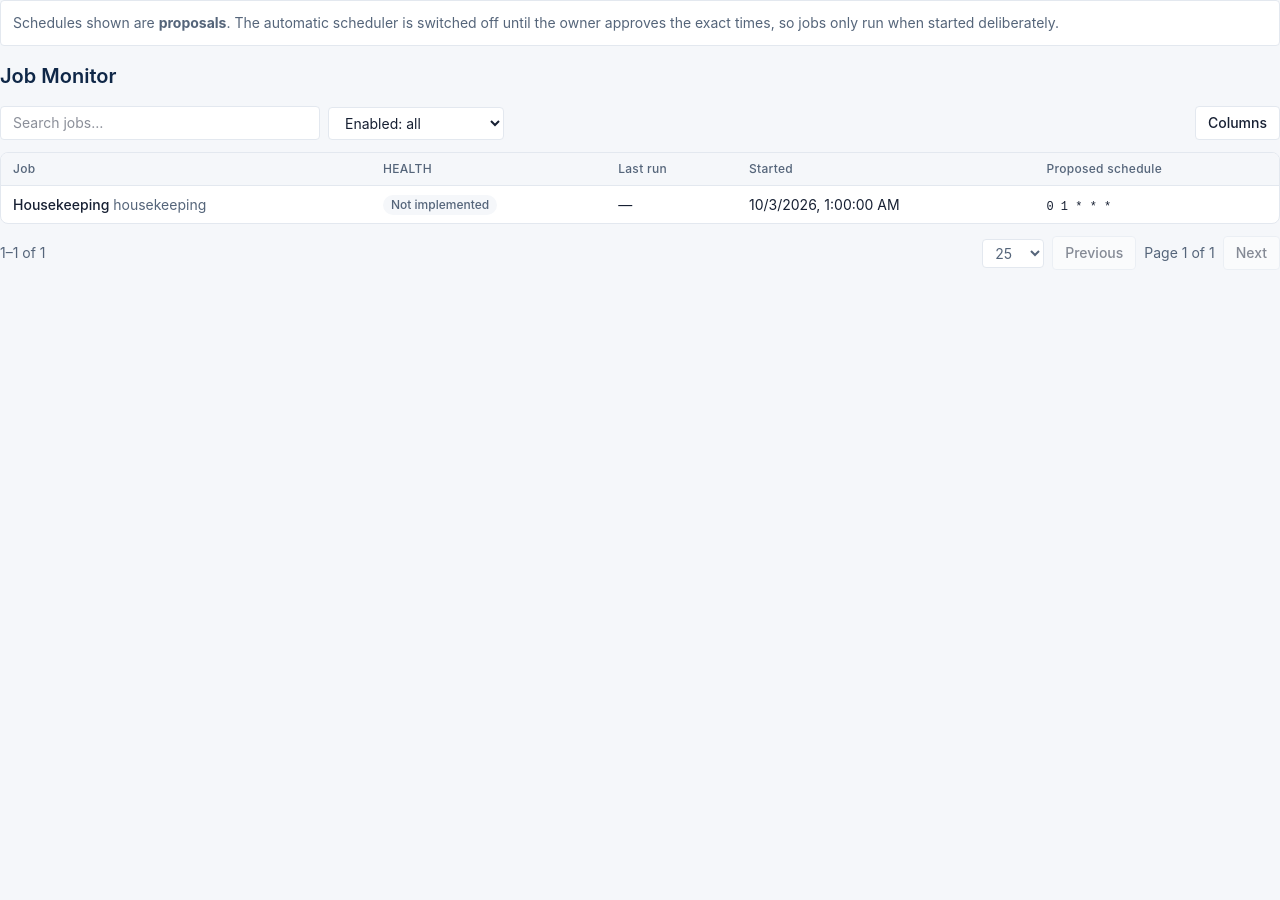
Test case: Job Monitor › a job without a runner cannot be enabled from the screen
Click the text "Housekeeping": (61, 204) [13, 196, 109, 212]
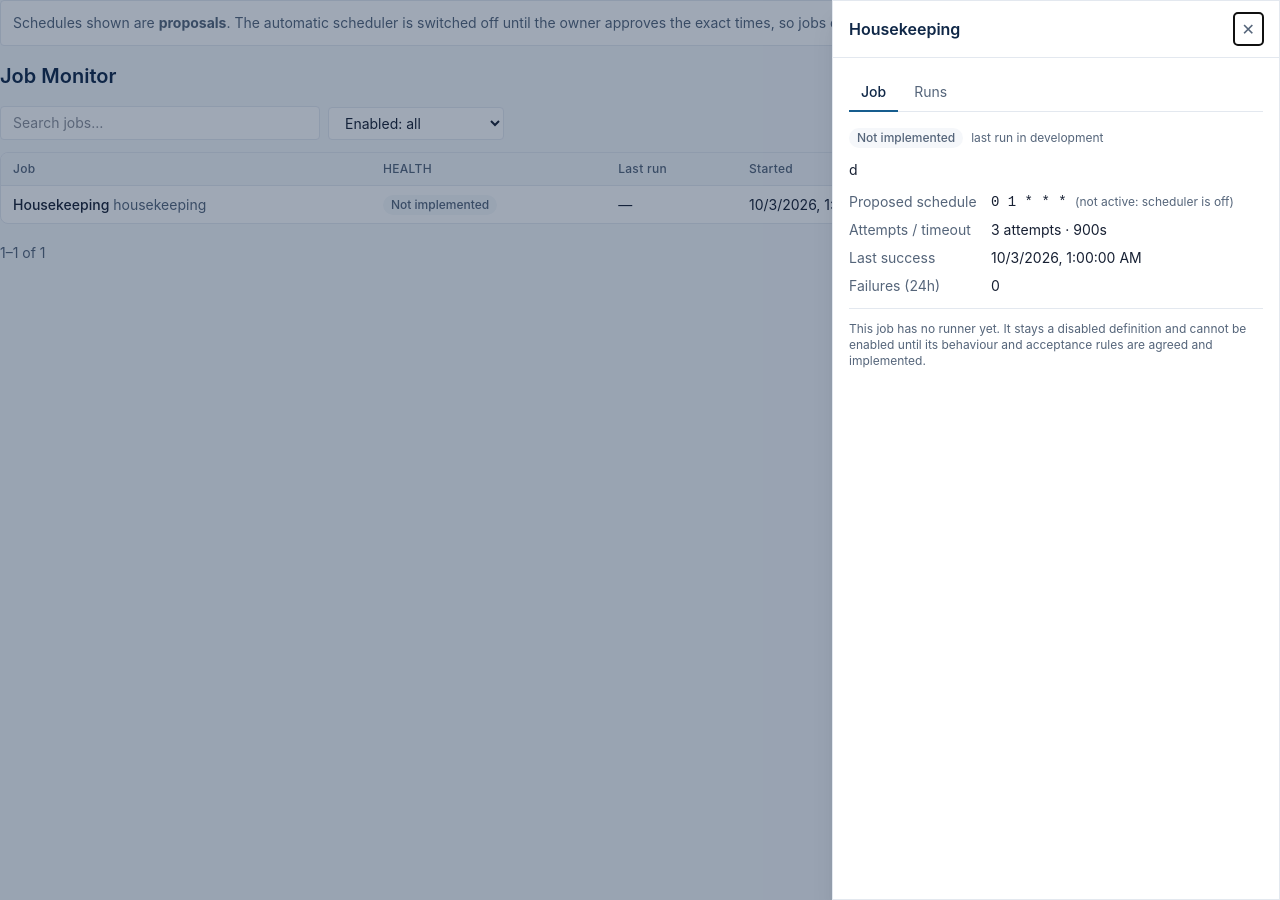
Now the text "cannot be enabled until its behaviour and acceptance rules are agreed" is shown, box [849, 321, 1246, 368]
